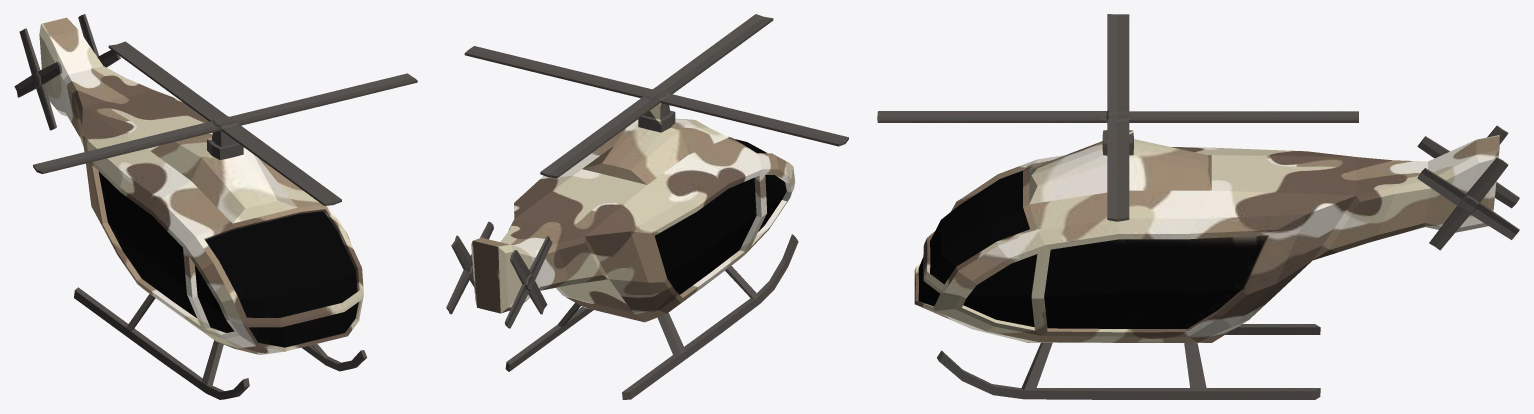
Rendered from Lowpoly_Helicopter (2).fbx.
The picture shows the model from 3 angles, left to right: view 1: azimuth 30°, elevation 25°; view 2: azimuth 150°, elevation 25°; view 3: azimuth 270°, elevation 25°; orthographic projection. The views are drawn at different scales.
Parts seen in each view (by area): view 1: Body, Rotor, Sub Rotor; view 2: Body, Rotor, Sub Rotor; view 3: Body, Rotor, Sub Rotor.
Boxes of the visible parts, x1,y1,x2,y2 form: Body: (39,17,367,399); Rotor: (33,41,417,205); Sub Rotor: (14,14,120,130); Body: (471,103,798,399); Rotor: (464,14,848,178); Sub Rotor: (446,221,552,328); Body: (914,130,1499,399); Rotor: (877,14,1358,221); Sub Rotor: (1417,125,1519,250).
Size of the model in its own units: 1056 by 605 by 1399.
